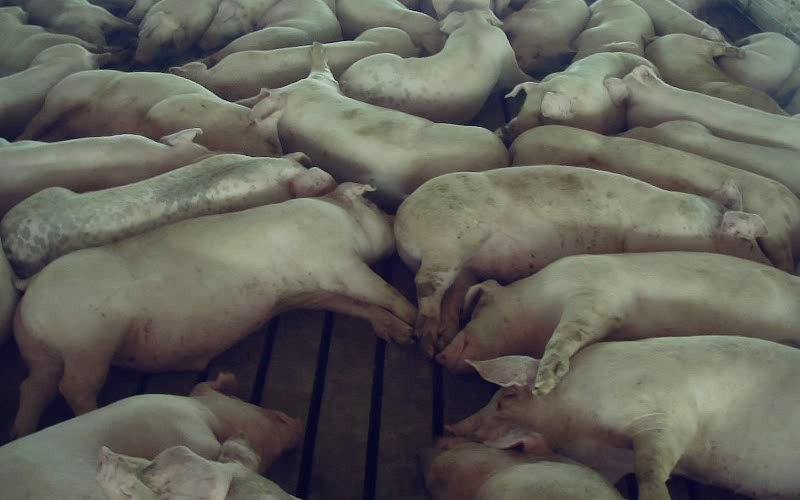pig: (13, 183, 415, 432), (394, 166, 766, 354), (448, 336, 799, 499), (437, 253, 799, 394), (511, 126, 799, 271), (0, 153, 335, 276), (270, 44, 508, 206), (0, 373, 302, 499), (20, 70, 281, 155), (339, 9, 529, 123), (0, 129, 213, 217), (605, 65, 799, 150), (621, 120, 799, 197), (504, 52, 653, 140), (645, 34, 784, 114), (0, 44, 107, 137), (212, 0, 341, 60), (502, 0, 589, 76), (335, 0, 445, 55), (716, 32, 799, 93), (573, 0, 654, 60), (197, 0, 277, 49)
